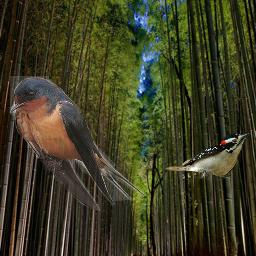Swallow: (10, 76, 144, 211)
Woodpecker: (165, 130, 251, 179)
